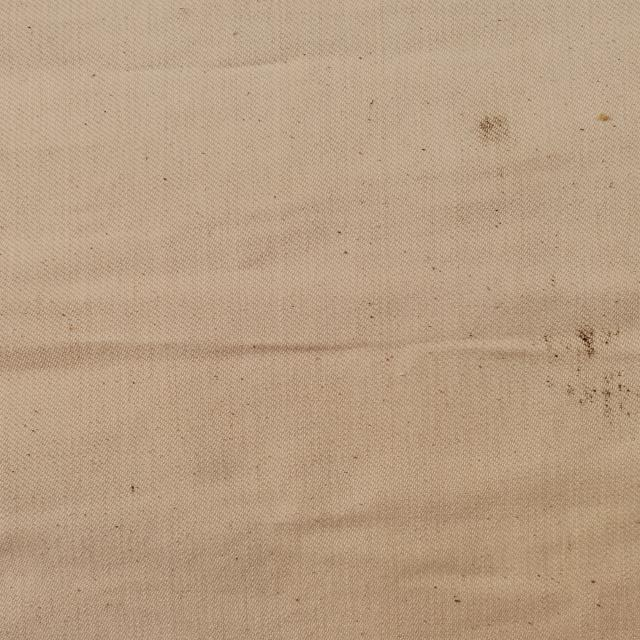taaaches: (530, 325, 640, 424), (463, 113, 523, 153), (592, 110, 614, 125)
